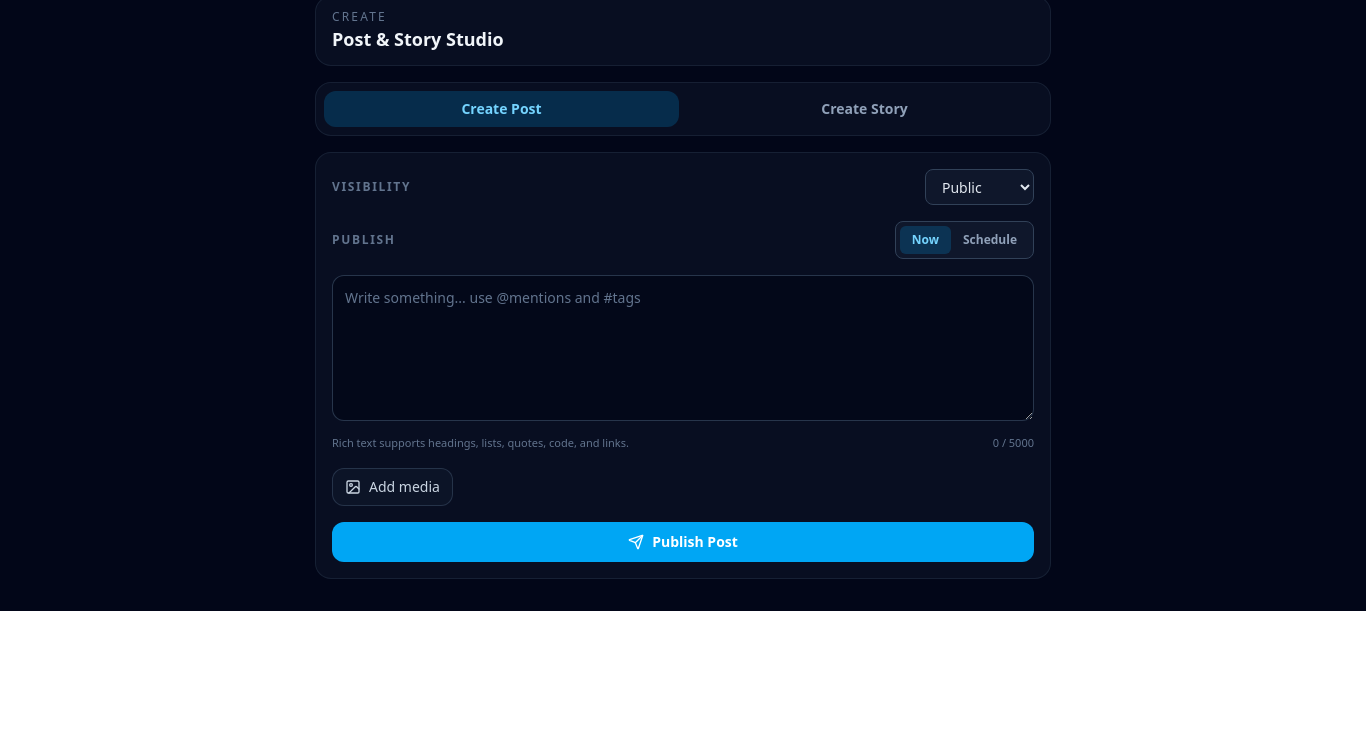
Test: CreatePostPage › shows schedule controls in schedule mode
The width and height of the screenshot is (1366, 748).
Step 1. Click the button "Schedule" → (990, 240), box [951,226,1029,254]
(page scrolled)
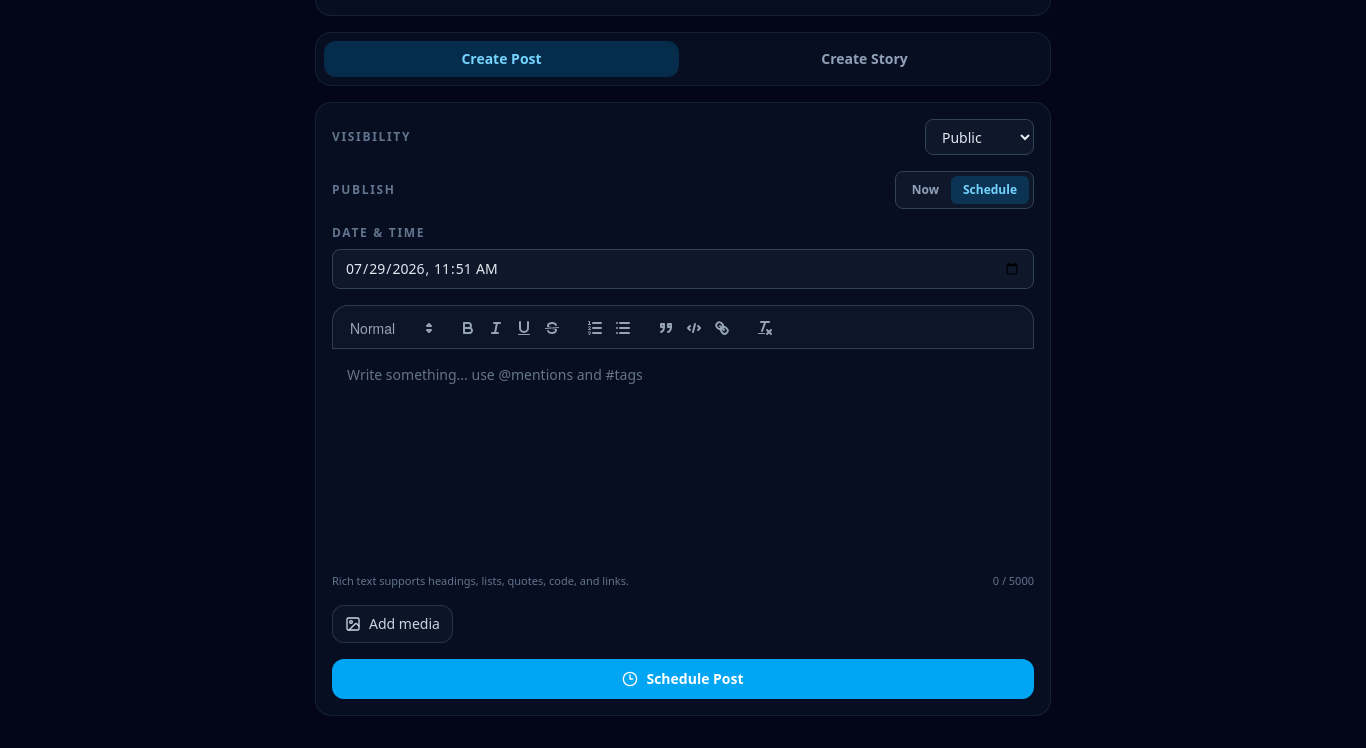
expect the field labelled "Date & Time" is shown: met, box [332,249,1034,289]
expect the button "Schedule Post" is shown: met, box [332,659,1034,699]
